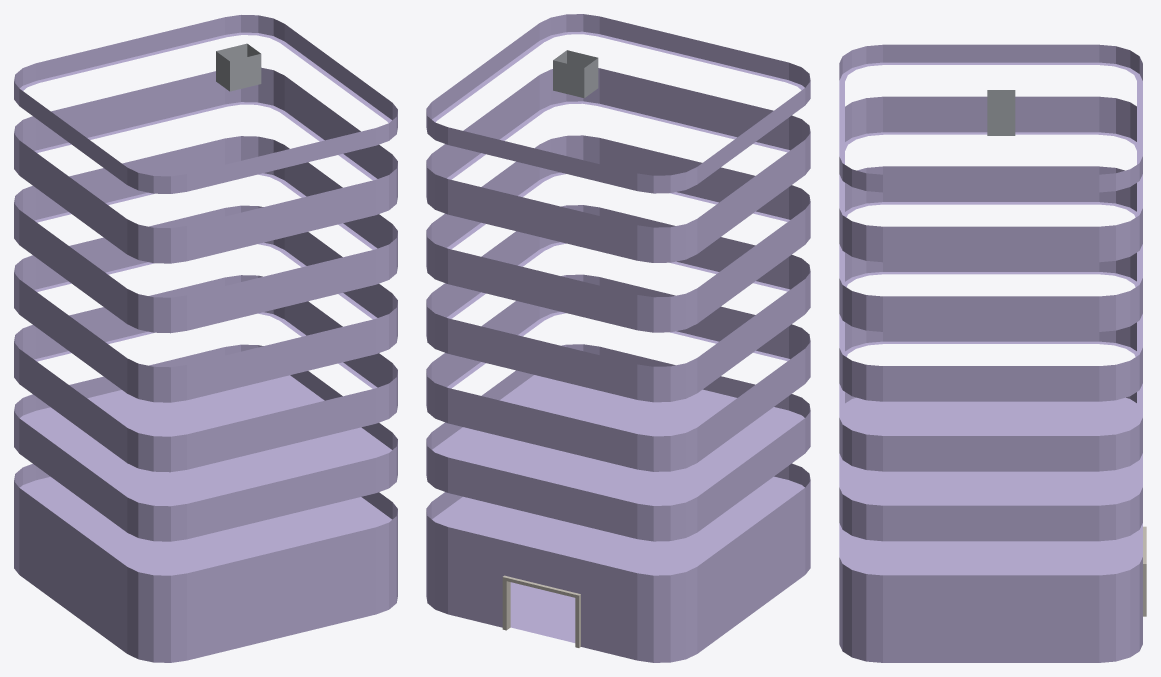
File: Bld_R_high_L4_A.fbx
3 renders of one model, left to right at view 1: azimuth 30°, elevation 25°; view 2: azimuth 150°, elevation 25°; view 3: azimuth 270°, elevation 25°, orthographic.
Visible parts, largest first — view 1: Bld_R_high_L4_A_LOD0; view 2: Bld_R_high_L4_A_LOD0; view 3: Bld_R_high_L4_A_LOD0.
Part boxes in pixels (bbox=[...]): Bld_R_high_L4_A_LOD0: bbox=[14, 15, 397, 662]; Bld_R_high_L4_A_LOD0: bbox=[426, 14, 810, 662]; Bld_R_high_L4_A_LOD0: bbox=[839, 44, 1146, 662].
Size of what is drawn, in the model's own units: 2200 by 4416 by 2200.
1 material, 1 textured.
